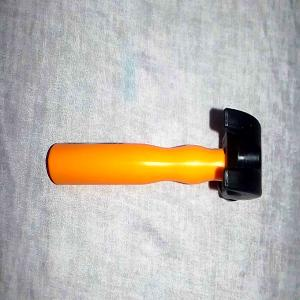martelo: (46, 108, 264, 200)
